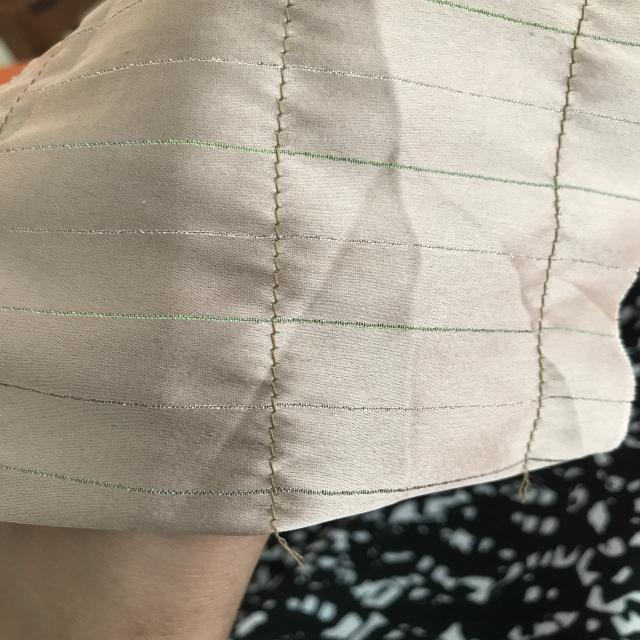good: (258, 326, 284, 398), (266, 160, 292, 220), (266, 418, 286, 472)
